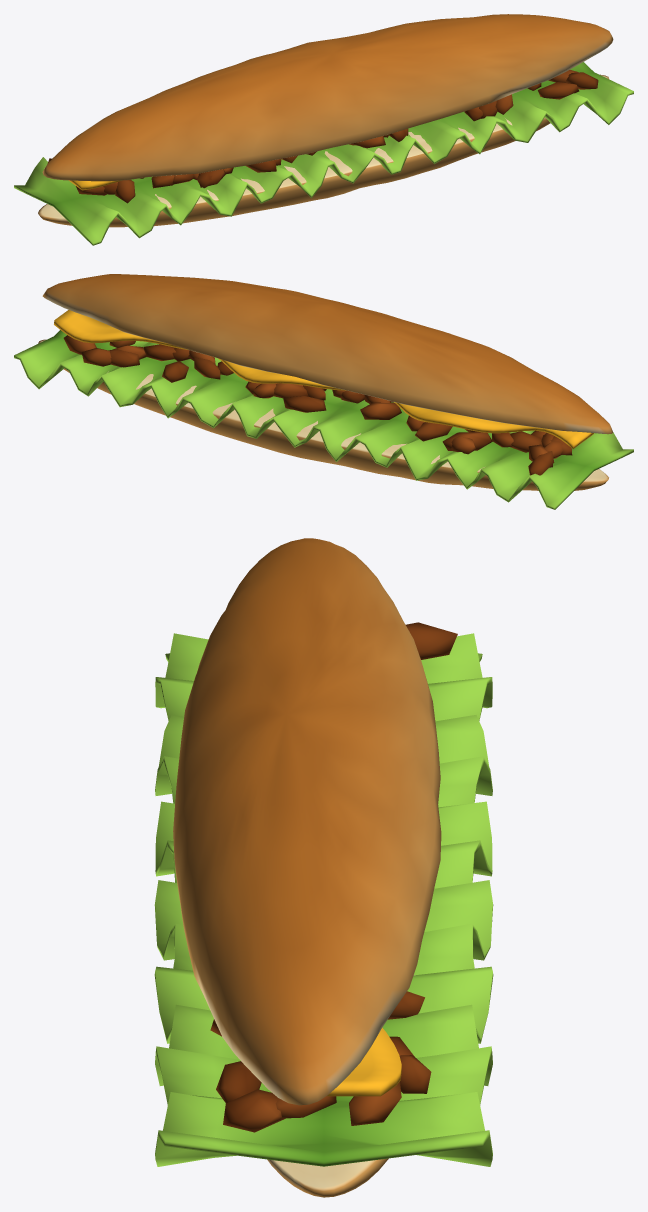
3 renders of one model, top to bottom at view 1: azimuth 30°, elevation 25°; view 2: azimuth 150°, elevation 25°; view 3: azimuth 270°, elevation 25°, orthographic. The views are drawn at different scales.
Visible parts, largest first — view 1: sub; view 2: sub; view 3: sub.
Part boxes in pixels (x1,y1,x2,y2): sub: [14, 14, 633, 245]; sub: [14, 274, 633, 509]; sub: [154, 538, 493, 1197].
Bounding box in the file's own units: 0.2641 × 0.0629 × 0.0681.
